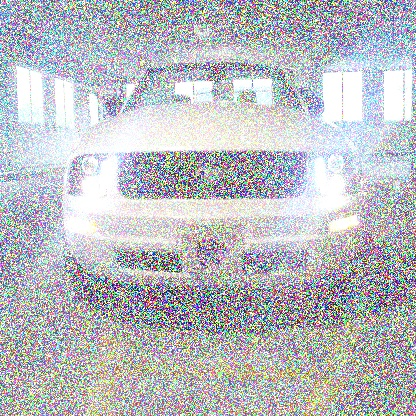Vehicle: (58, 55, 369, 314)
